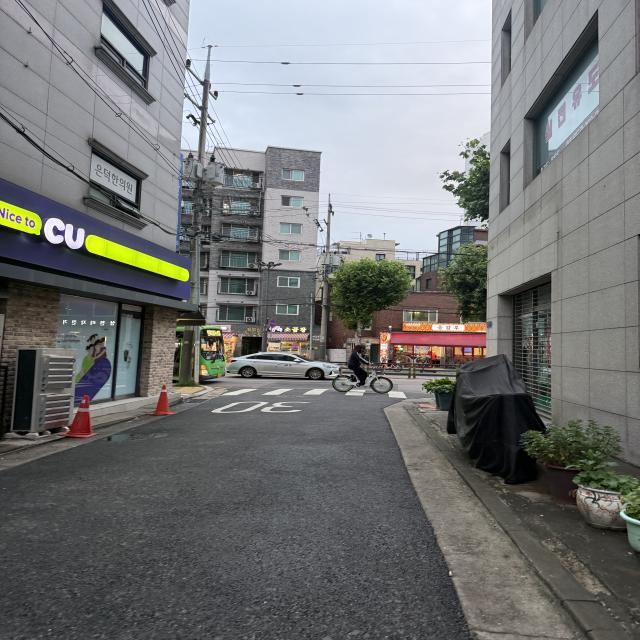bicycle: (325, 342, 407, 400)
car: (223, 347, 348, 382), (169, 320, 230, 388)
